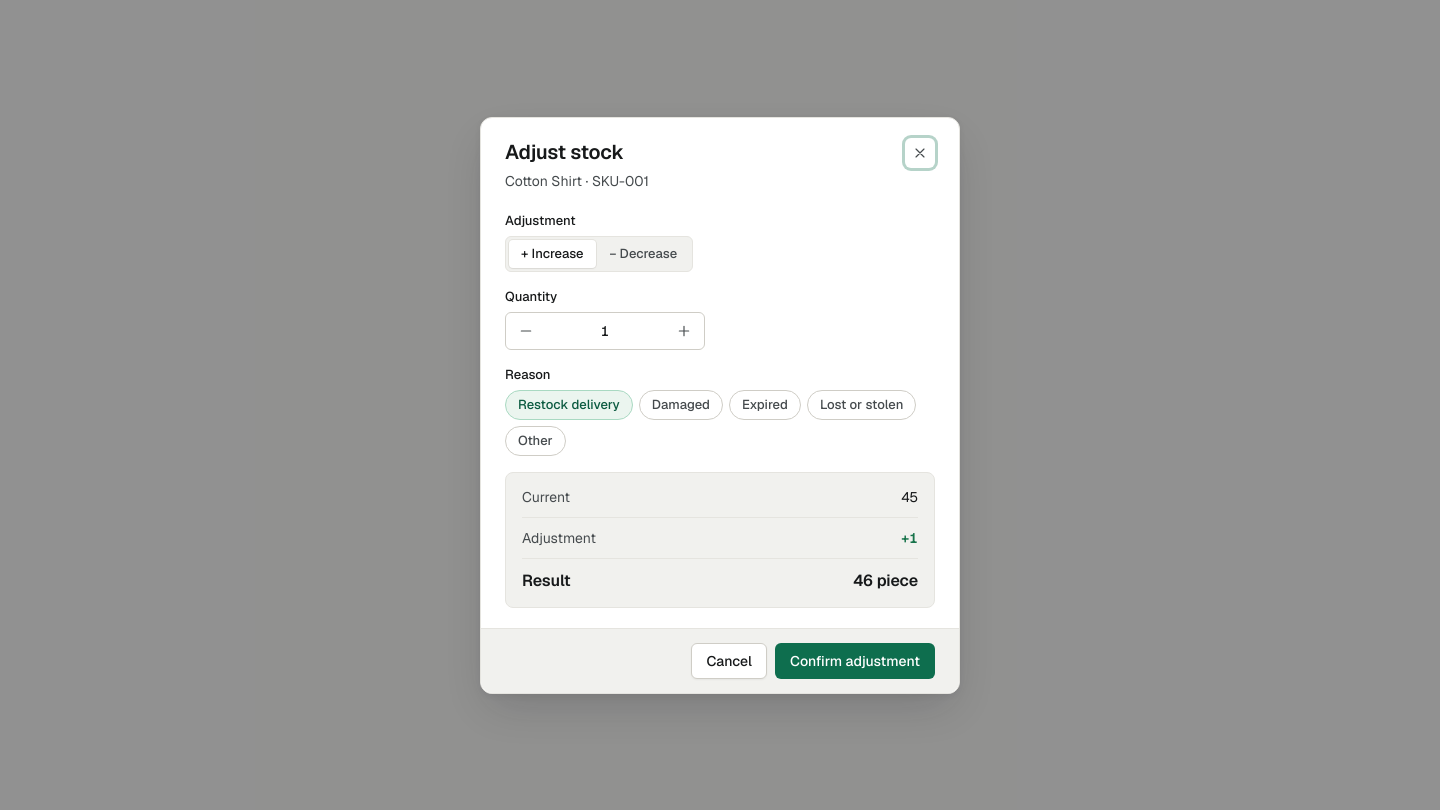
it: Inventory Frontend Slice (INV-005) › StockChangeModal › blocks a decrease below zero
Click the button "− Decrease".
click(643, 254)  # box [598,240,689,268]
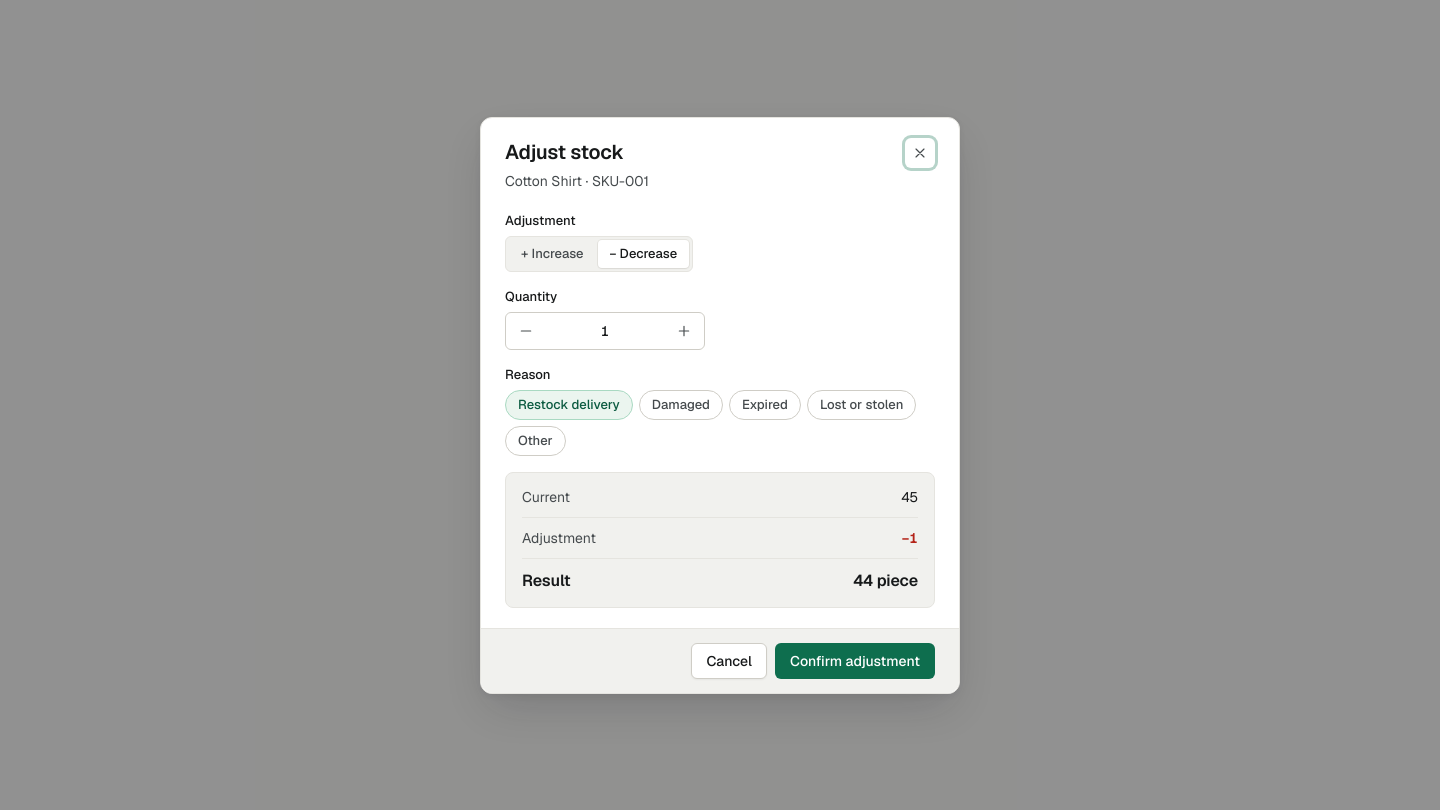
Replace the text in the field labelled "Quantity" with "50" at (605, 330), box [546,312,664,348]
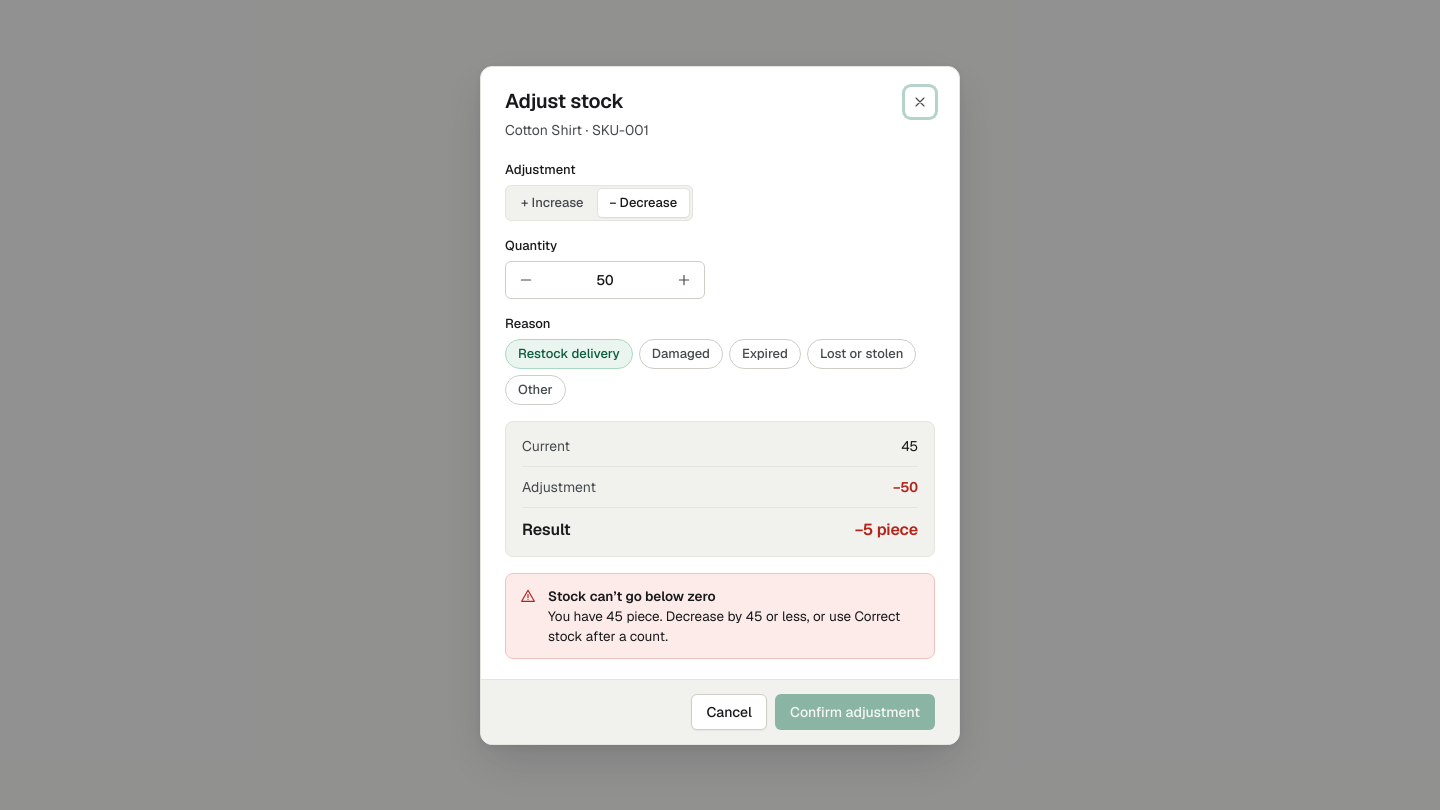
Now the message shows "Stock can’t go below zero", box [548,586,716,604]
Now the button "Confirm adjustment" is disabled, box [775,694,935,730]
